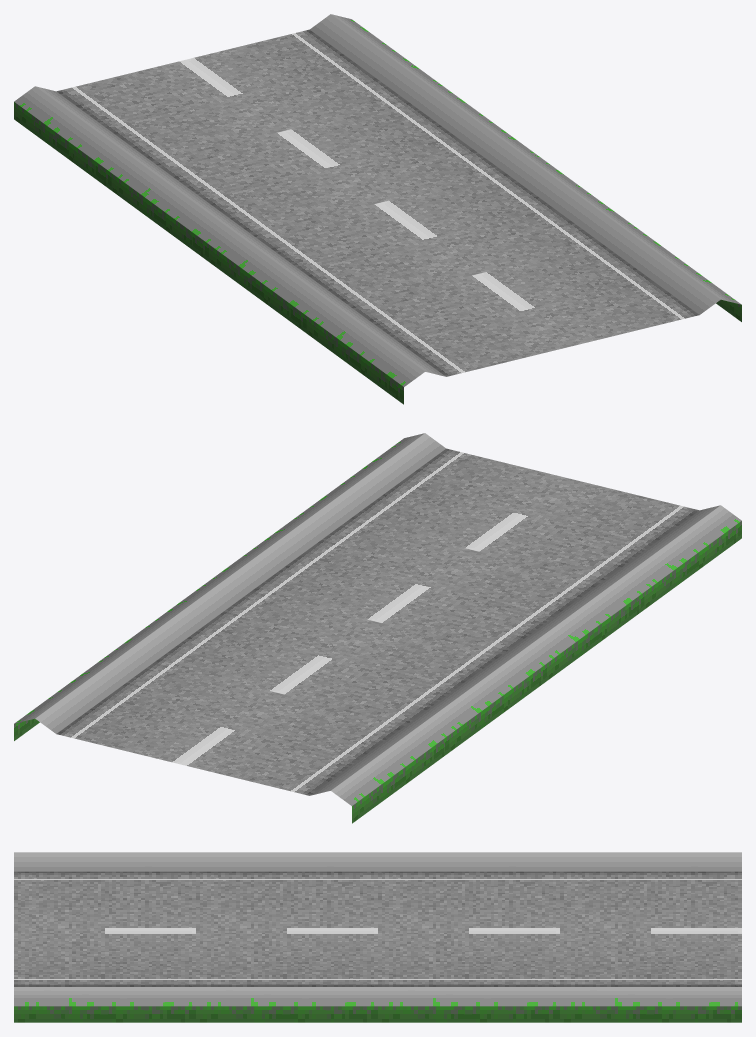
File: RoadStraight.glb
The picture shows the model from 3 angles, top to bottom: view 1: azimuth 30°, elevation 25°; view 2: azimuth 150°, elevation 25°; view 3: azimuth 270°, elevation 25°; orthographic projection. The views are drawn at different scales.
Visible parts, largest first — view 1: RoadStraight; view 2: RoadStraight; view 3: RoadStraight.
Part boxes in pixels (x1,y1,x2,y2): RoadStraight: (14, 14, 741, 404); RoadStraight: (14, 433, 741, 823); RoadStraight: (14, 852, 741, 1022).
Bounding box in the file's own units: 0.5 × 0.0396 × 1.
Materials: 1 (1 with a texture image).
